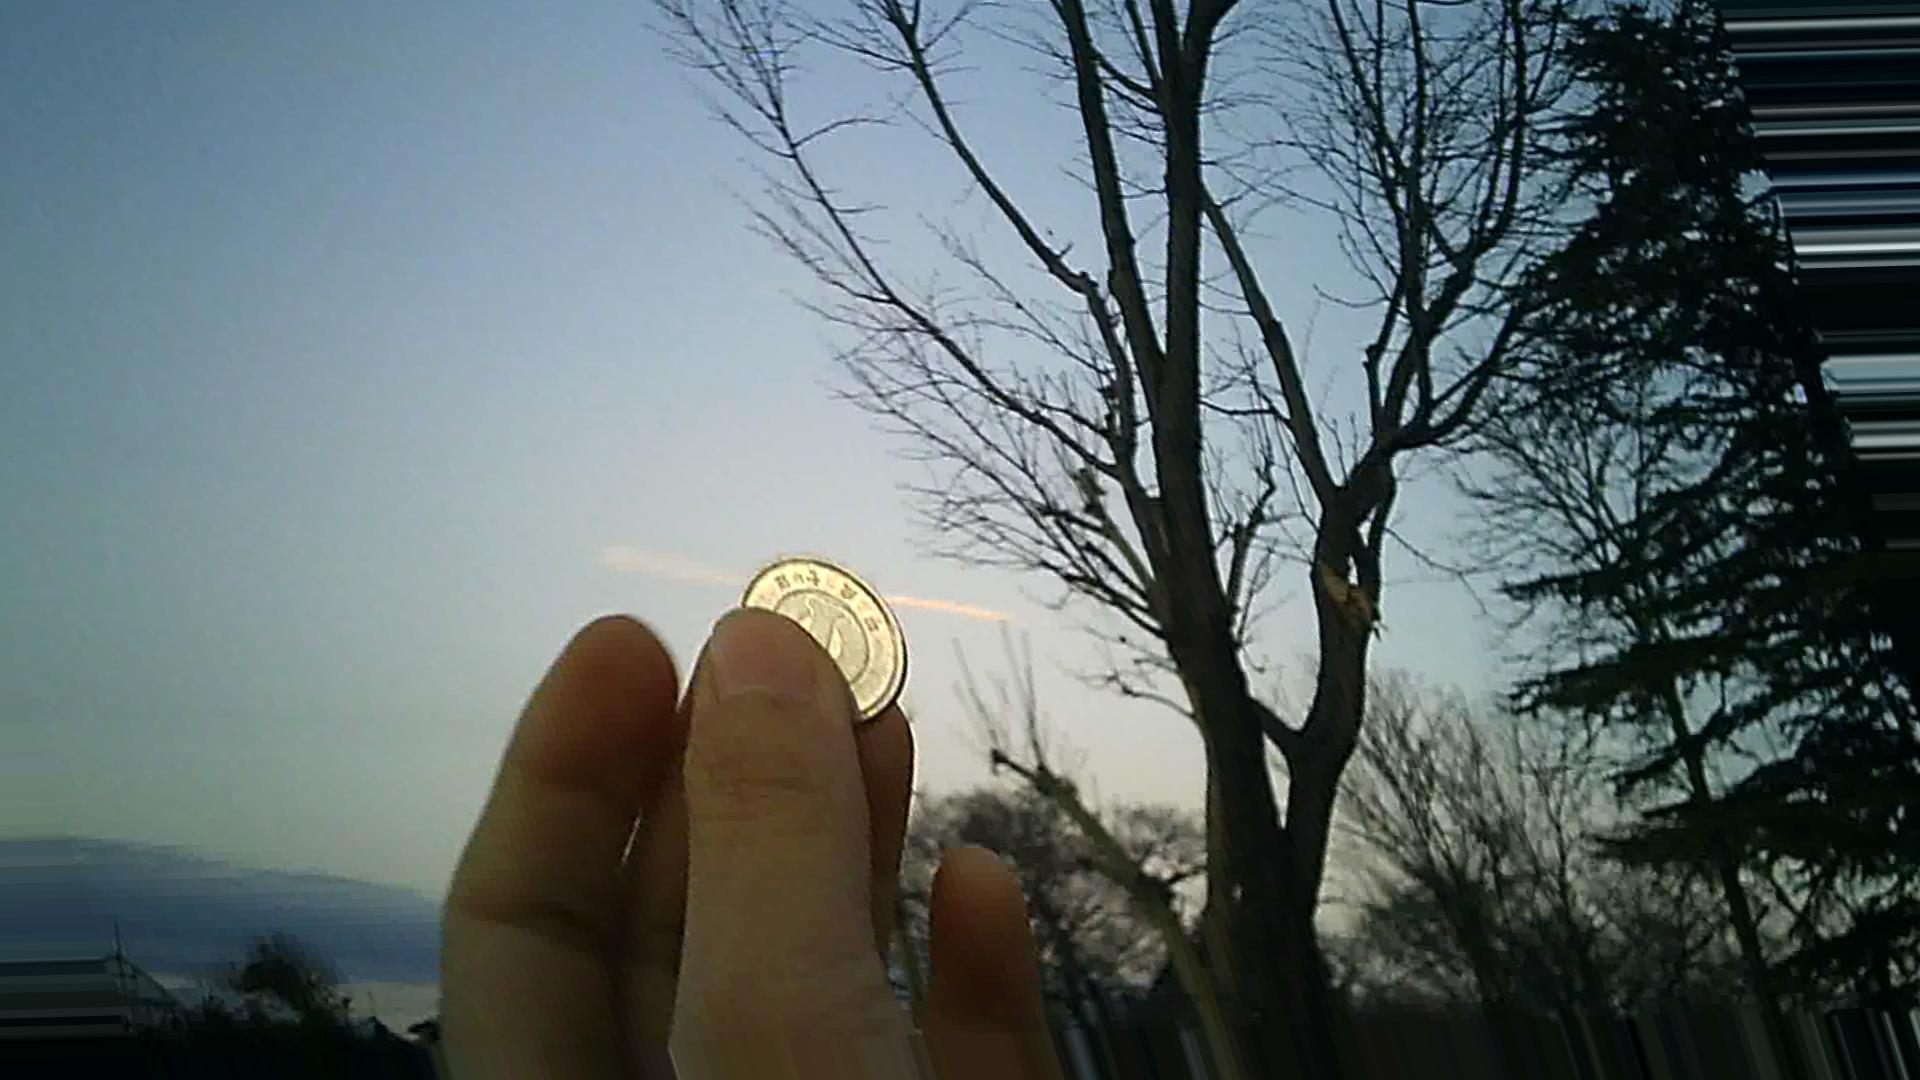1 Yen: (713, 545, 928, 731)
